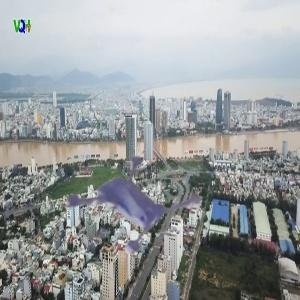drone: (41, 138, 189, 286)
